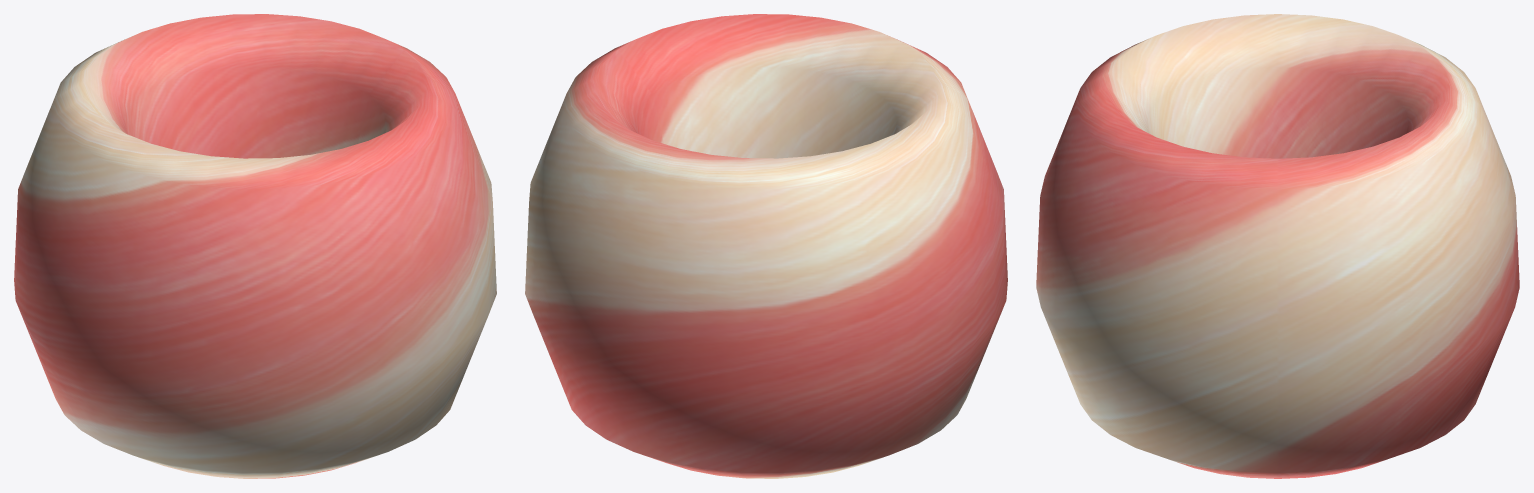
Rendered from shell_bead-ByqDE_mv.glb.
3 views of the same model, side by side, from view 1: azimuth 30°, elevation 25°; view 2: azimuth 150°, elevation 25°; view 3: azimuth 270°, elevation 25° (orthographic).
Parts seen in each view (by area): view 1: HI_shell_bead; view 2: HI_shell_bead; view 3: HI_shell_bead.
Part boxes in pixels (left/top/right/bottom): HI_shell_bead: left=14, top=14, right=496, bottom=478; HI_shell_bead: left=525, top=14, right=1007, bottom=478; HI_shell_bead: left=1036, top=14, right=1519, bottom=478.
Size of the model in its own units: 0.24 by 0.18 by 0.24.
Materials: 1 (1 with a texture image).
